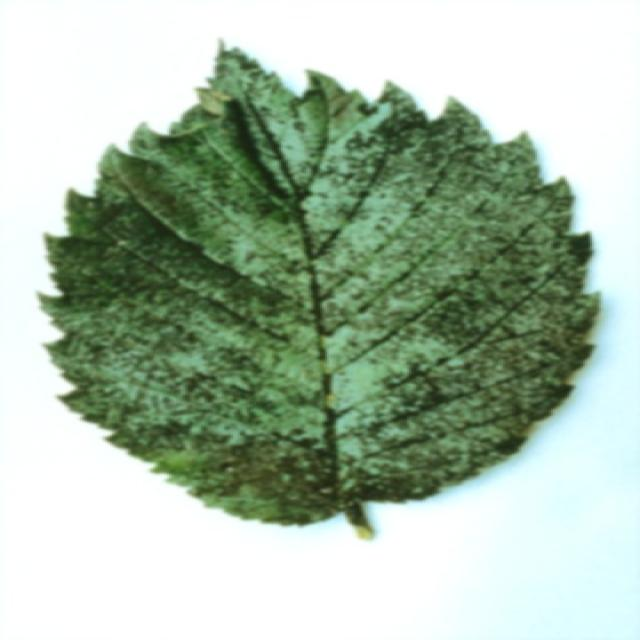Sooty Mold: (35, 37, 602, 539)
